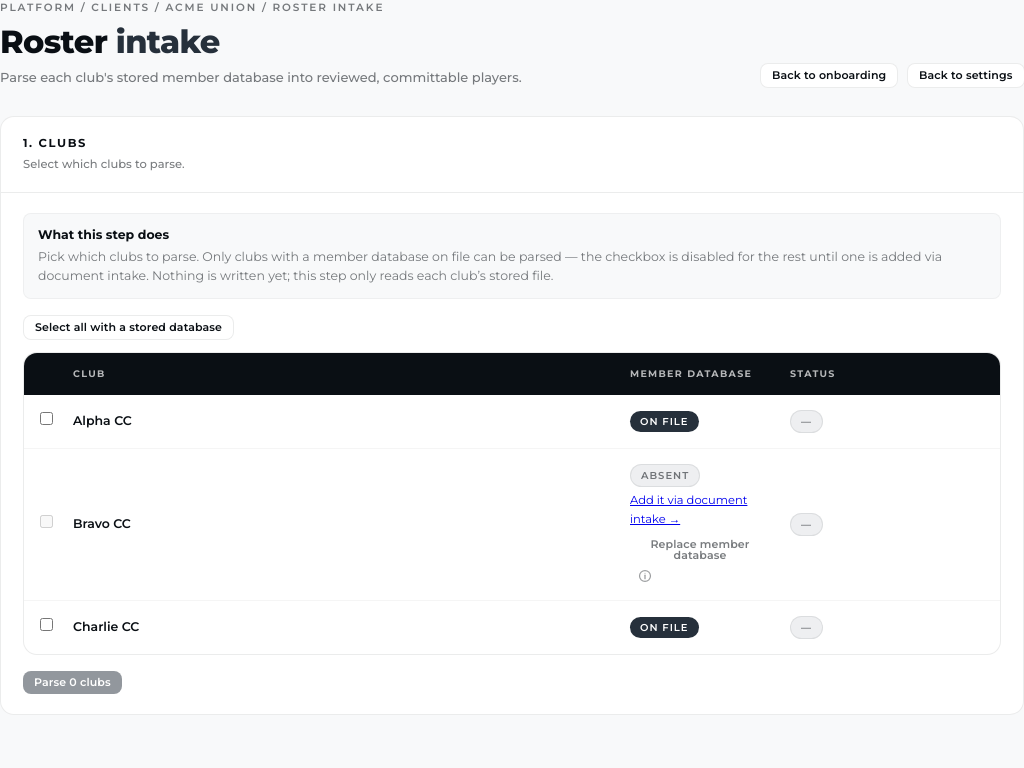
Test case: RosterIntakeWizard › flags an unmapped junior age band in the confirm table
This screenshot has width=1024, height=768.
Expected: the heading "Roster intake" is shown, [0,22,220,61]
Click the checkbox named "select alpha cc" at (46, 418), box [40,412,53,425]
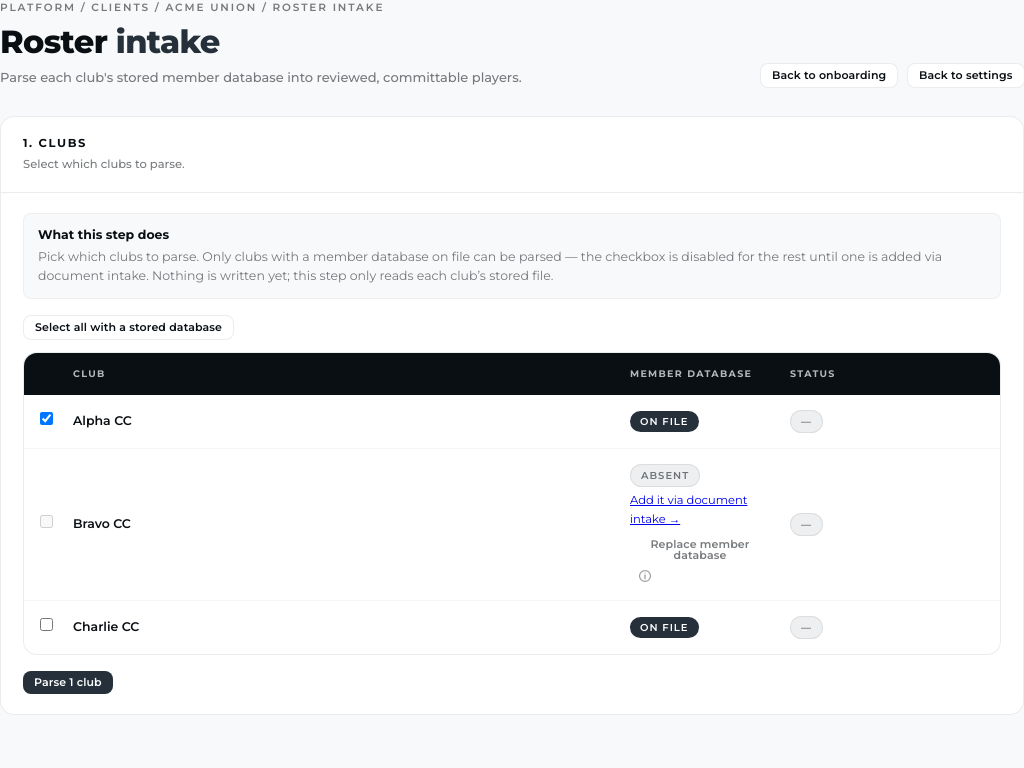
Click the button "Parse 1 club" at (68, 682), box [23,671,113,694]
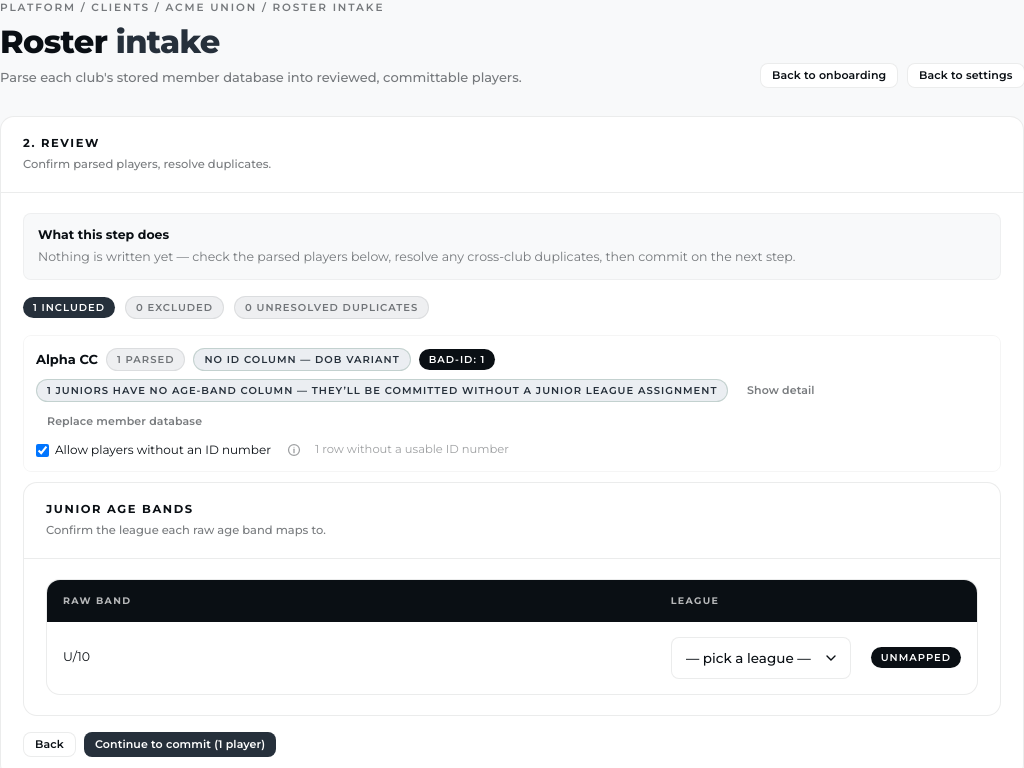
Expected: the text "U/10" is shown, [47,622,661,694]
Expected: the text "Unmapped" is shown, [871,647,961,668]
